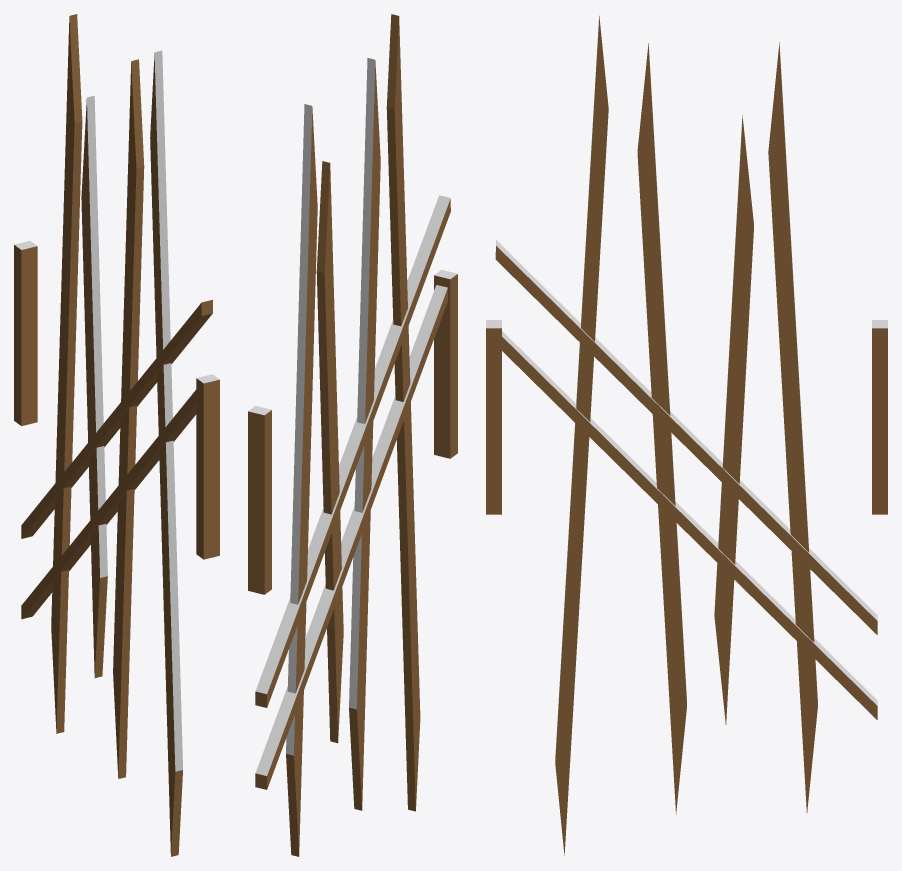
The model's file is barriereNeige.fbx.
The picture shows the model from 3 angles, left to right: view 1: azimuth 30°, elevation 25°; view 2: azimuth 150°, elevation 25°; view 3: azimuth 270°, elevation 25°; orthographic projection. The views are drawn at different scales.
Visible parts, largest first — view 1: Cube.004, Cube.007, Cube.005, Cube.006, Cube, Cube.001, Cube.002, Cube.003; view 2: Cube.004, Cube.007, Cube.005, Cube.006, Cube.002, Cube.003, Cube.001, Cube; view 3: Cube.007, Cube.005, Cube.004, Cube.006, Cube.002, Cube.003, Cube, Cube.001.
Part boxes in pixels (<box>): Cube.004: <box>150,50,182,856</box>; Cube.007: <box>51,14,82,733</box>; Cube.005: <box>113,59,144,778</box>; Cube.006: <box>81,95,107,677</box>; Cube: <box>196,374,219,559</box>; Cube.001: <box>14,241,37,425</box>; Cube.002: <box>21,299,212,538</box>; Cube.003: <box>21,390,196,619</box>; Cube.004: <box>386,14,420,811</box>; Cube.007: <box>286,104,317,856</box>; Cube.005: <box>349,58,380,810</box>; Cube.006: <box>316,161,343,743</box>; Cube.002: <box>255,195,450,707</box>; Cube.003: <box>255,285,447,789</box>; Cube.001: <box>248,406,271,594</box>; Cube: <box>434,270,457,458</box>; Cube.007: <box>768,42,817,812</box>; Cube.005: <box>637,43,686,814</box>; Cube.004: <box>555,15,608,855</box>; Cube.006: <box>714,115,753,724</box>; Cube.002: <box>495,240,877,634</box>; Cube.003: <box>502,331,877,719</box>; Cube: <box>486,320,501,514</box>; Cube.001: <box>872,320,887,514</box>.
Size of the model in its own units: 17.52 by 821 by 356.
